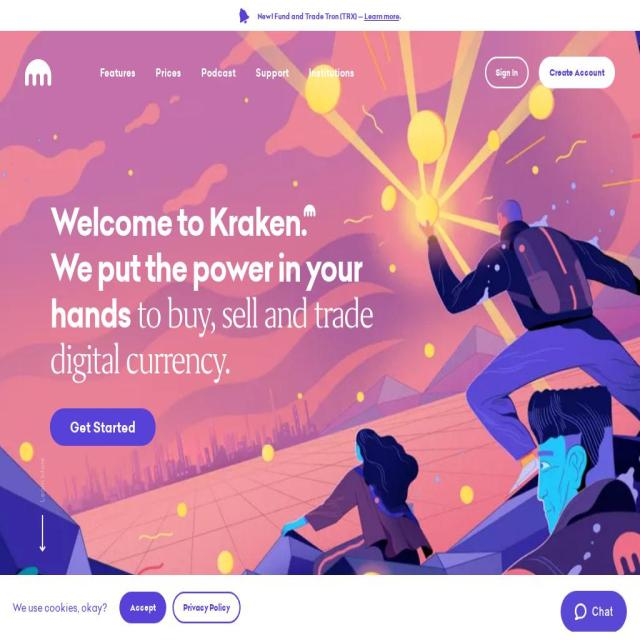button: (50, 408, 156, 446), (539, 57, 615, 88), (25, 31, 51, 114), (172, 592, 240, 623), (35, 369, 135, 389), (120, 592, 167, 623), (485, 57, 529, 88), (309, 63, 354, 89), (100, 63, 136, 89), (201, 63, 236, 89), (256, 63, 288, 89), (156, 63, 181, 89)
heading: (50, 240, 362, 342), (50, 289, 372, 385), (50, 195, 306, 250)
iframe: (558, 590, 628, 632)
image: (0, 31, 640, 615)
text: (12, 598, 107, 618), (257, 11, 364, 22), (364, 11, 399, 22), (38, 458, 72, 468), (399, 11, 401, 22)
